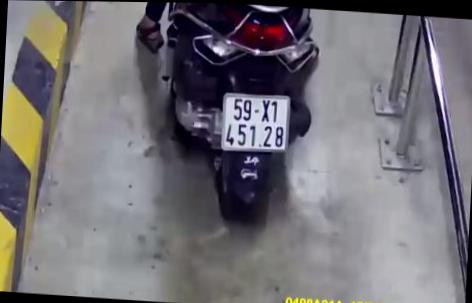LP: (218, 89, 292, 154)
